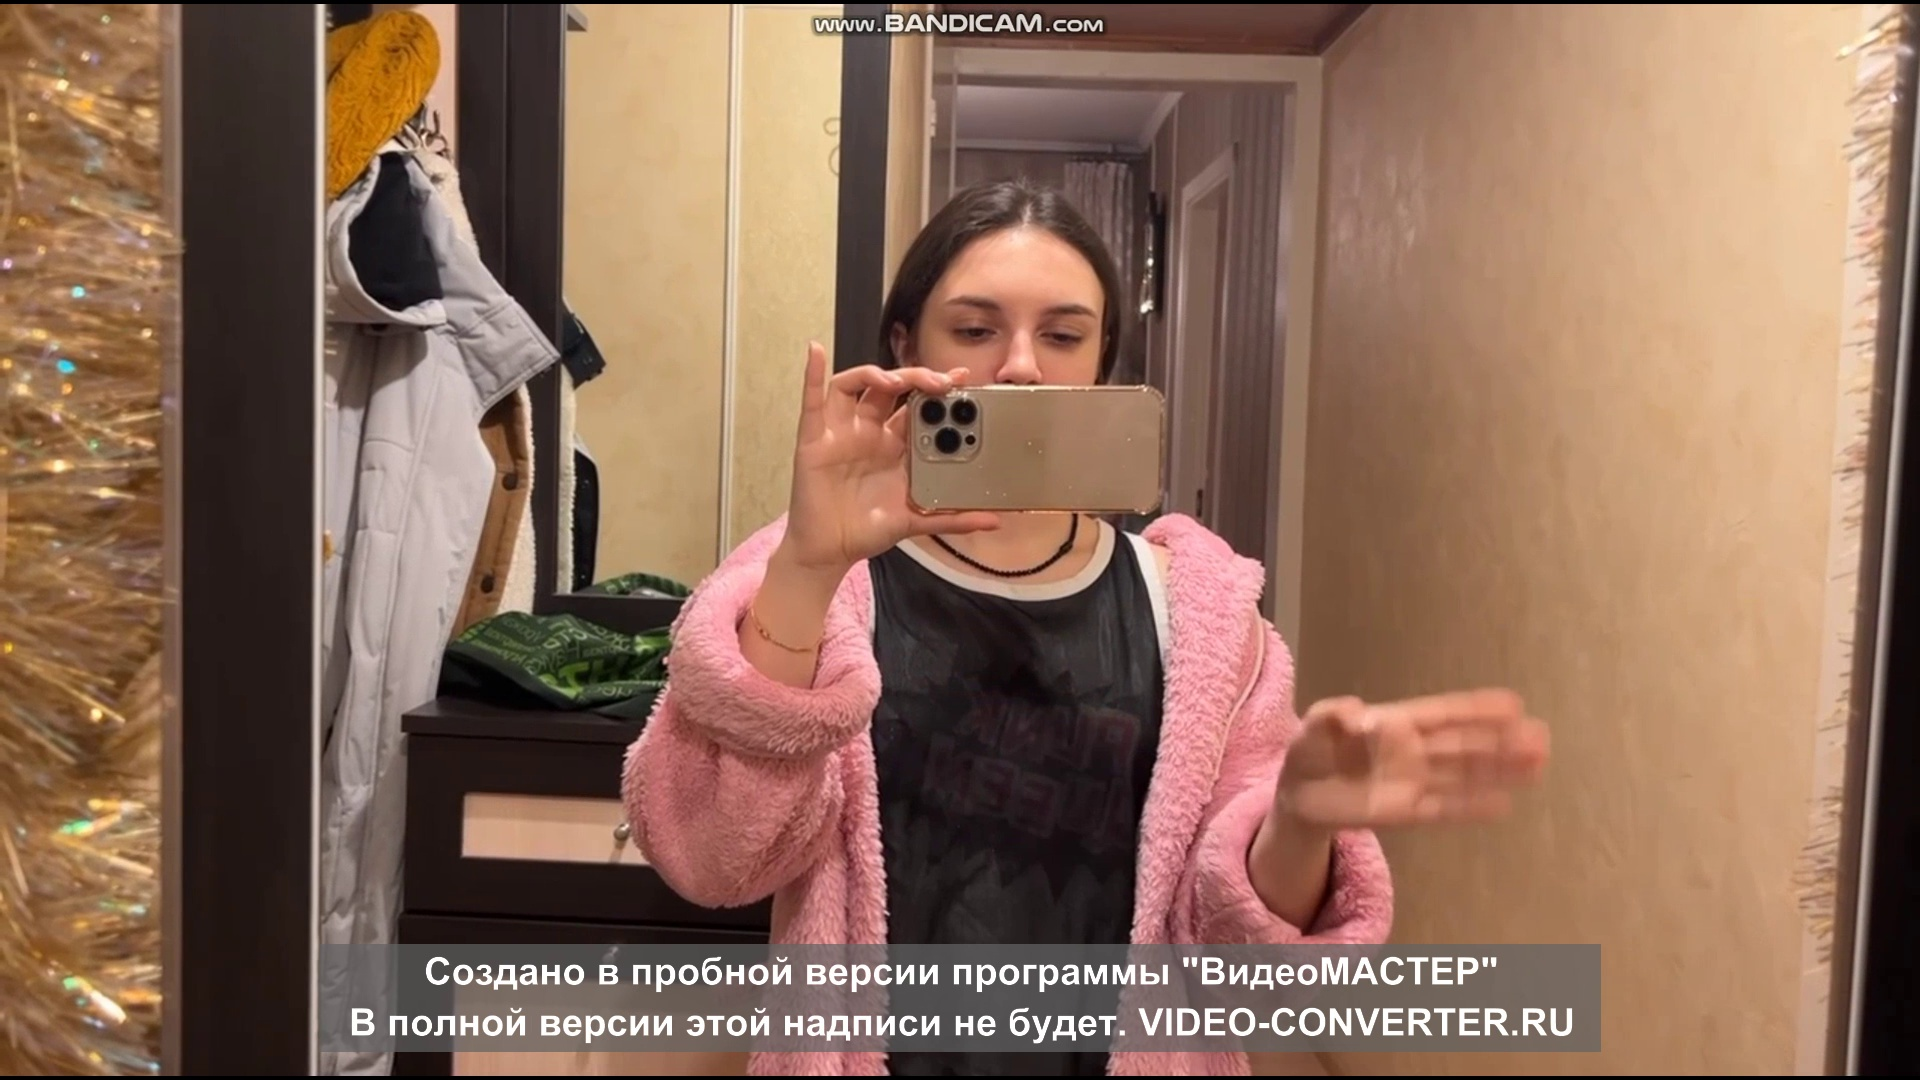Ладонь: (1282, 690, 1552, 831)
